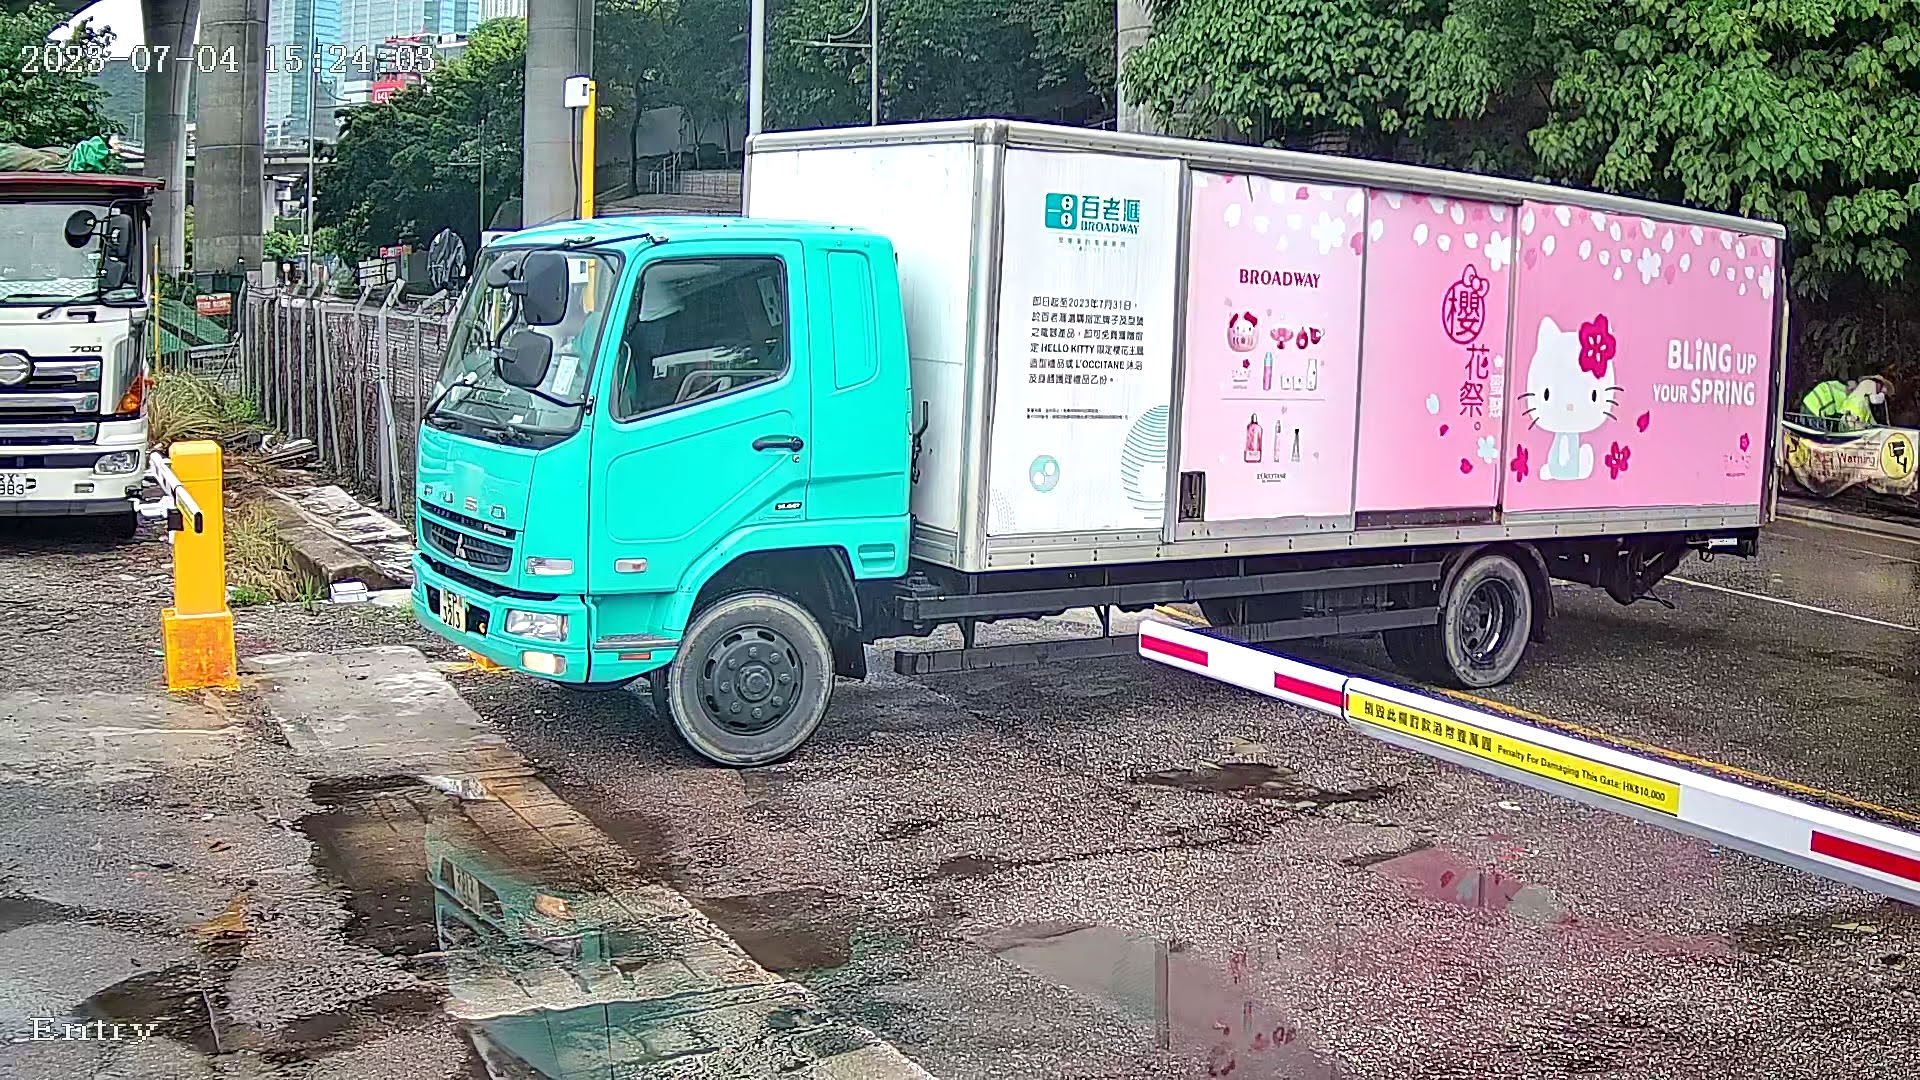truck_large: (404, 96, 1815, 775)
